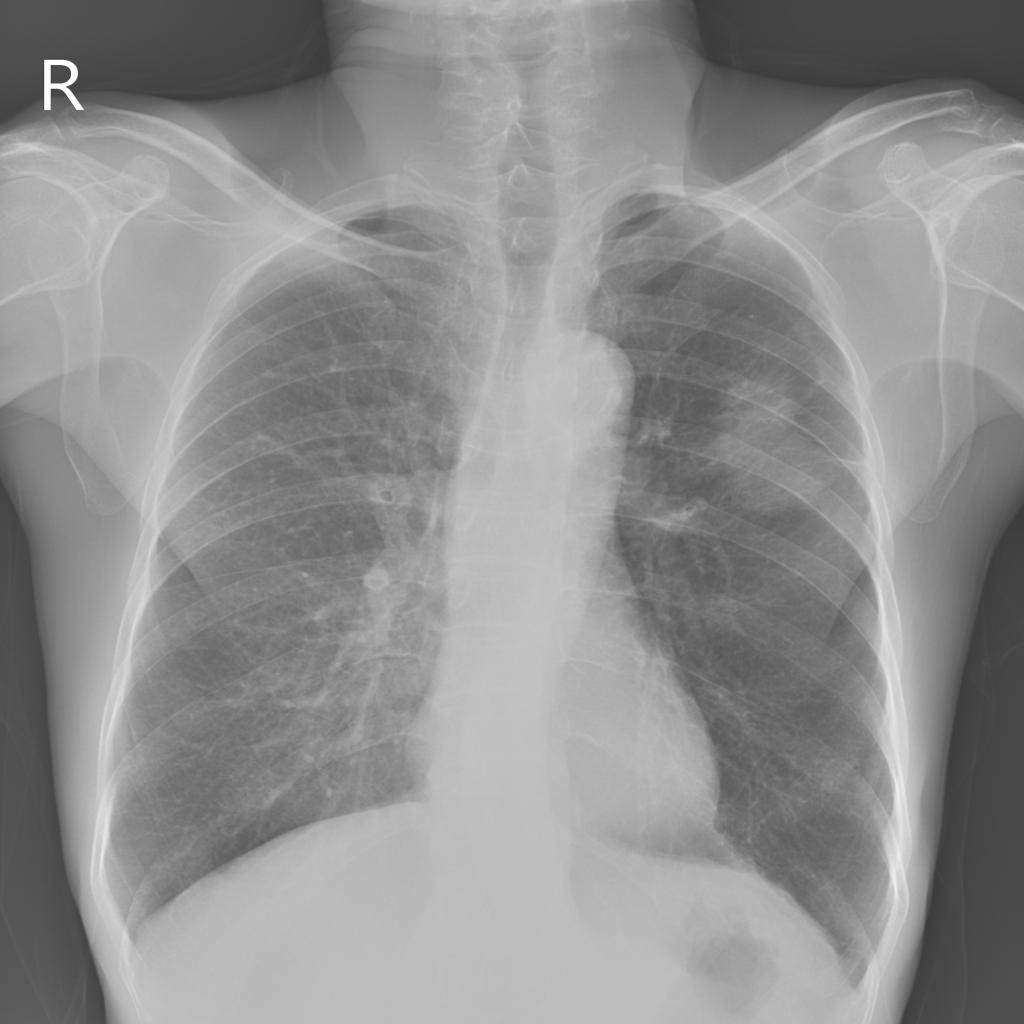Nodule: (716, 372, 841, 513)
